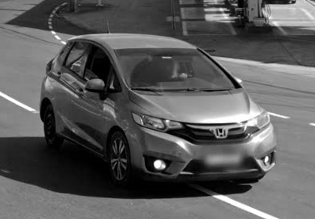car: (39, 33, 278, 186)
